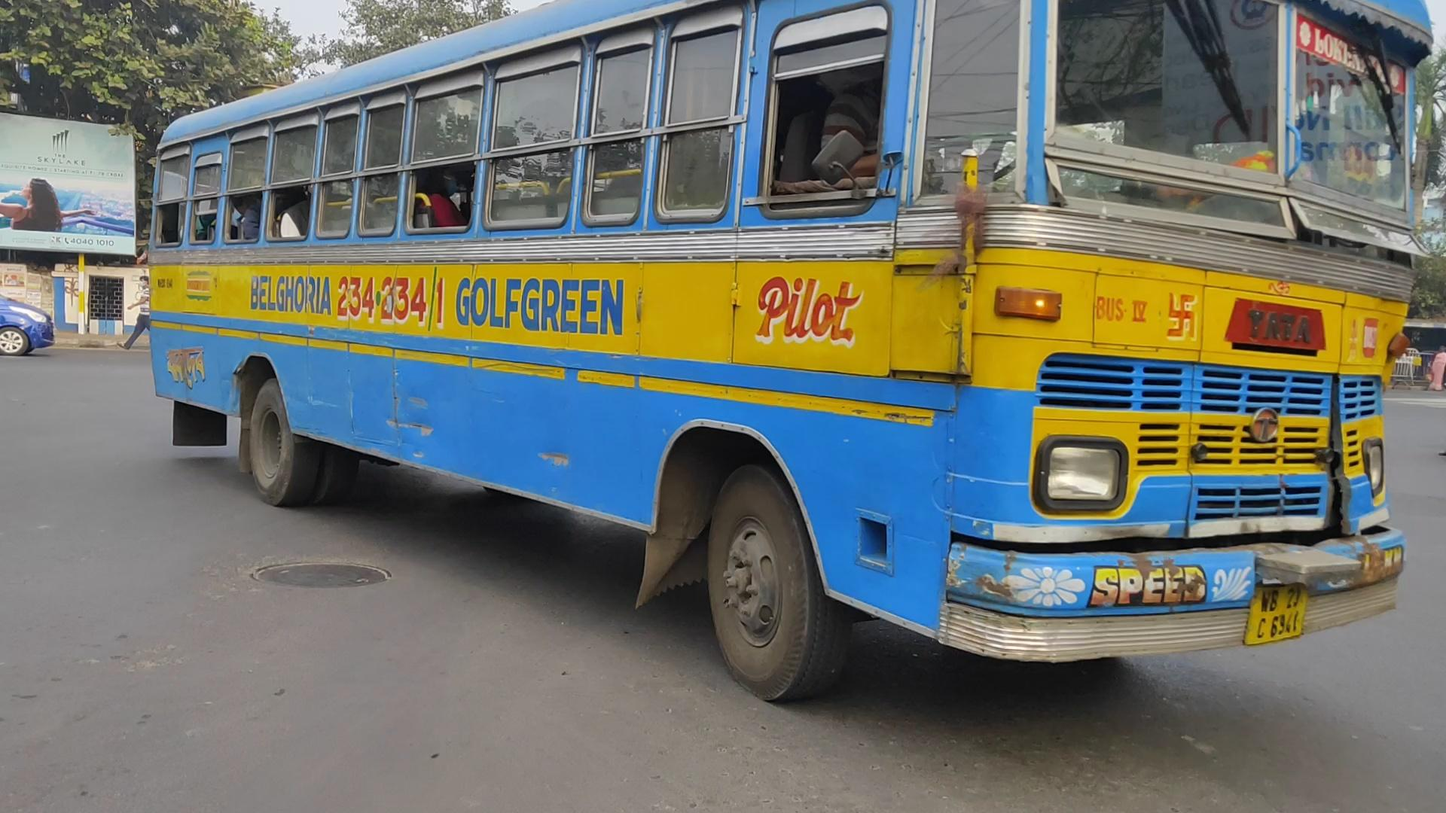Bus: (146, 2, 1435, 707)
car: (1, 288, 56, 358)
